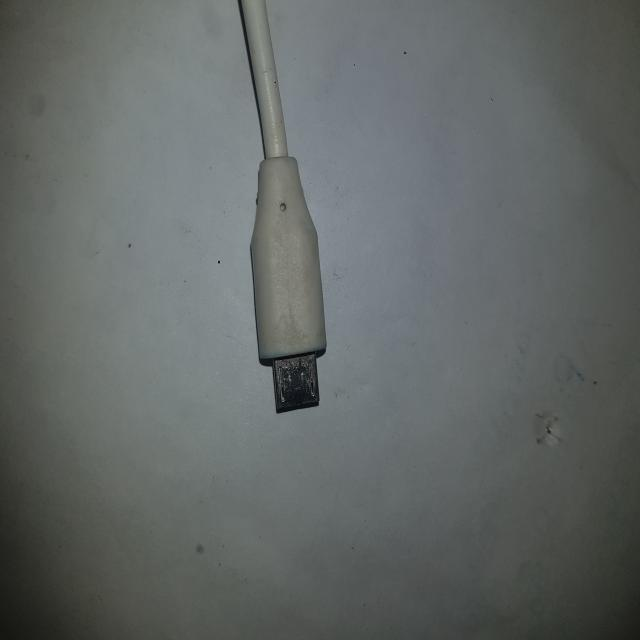electronic: (188, 3, 418, 485)
